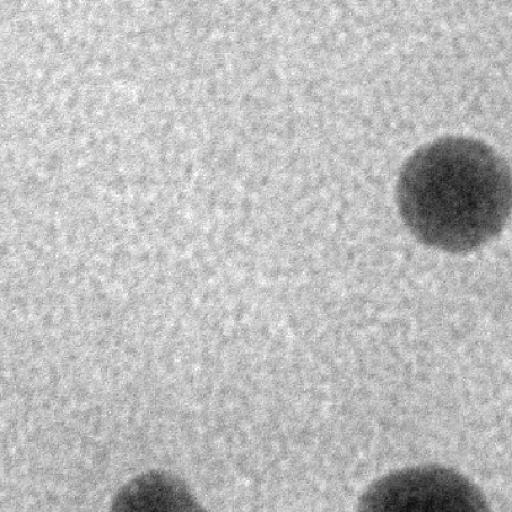Nanoparticles: (394, 131, 512, 259), (354, 459, 500, 511), (109, 468, 206, 510)
